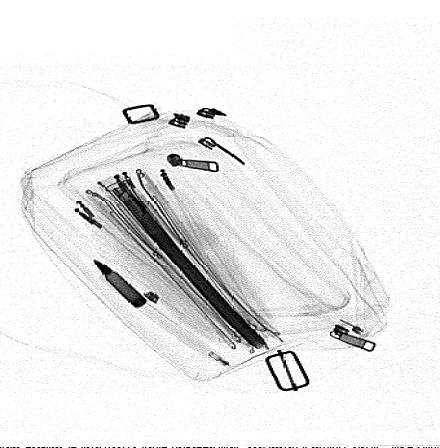Bullet: (93, 258, 147, 308)
